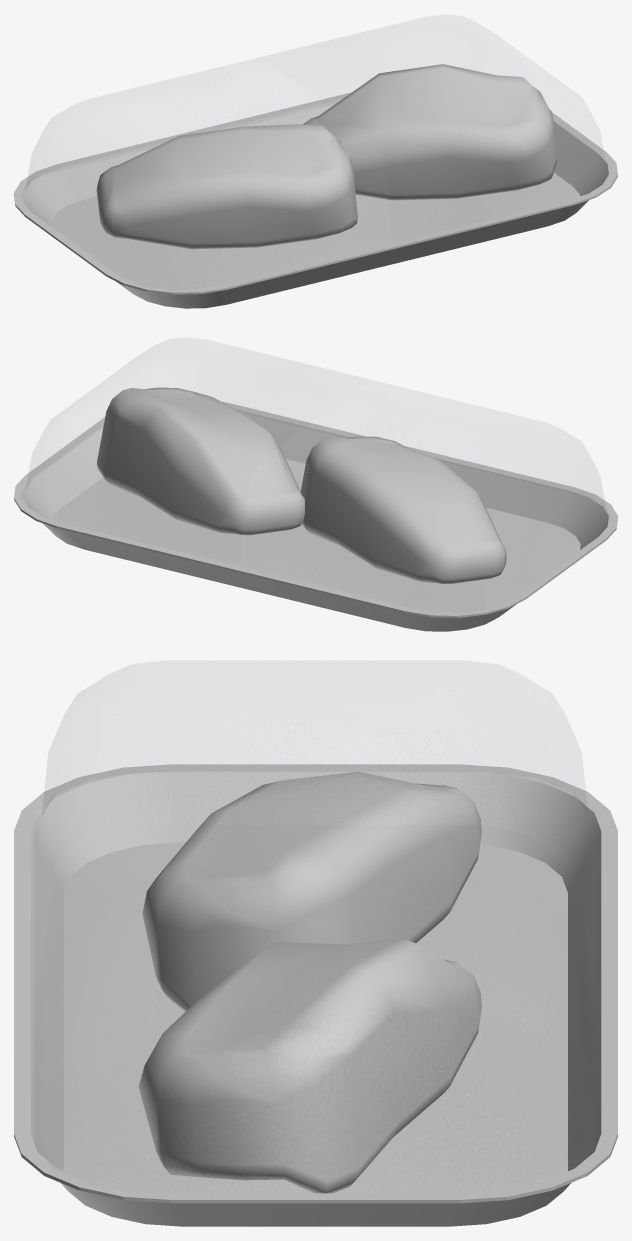
3 renders of one model, top to bottom at view 1: azimuth 30°, elevation 25°; view 2: azimuth 150°, elevation 25°; view 3: azimuth 270°, elevation 25°, orthographic. The views are drawn at different scales.
Visible parts, largest first — view 1: khay, D_1, D_2; view 2: khay, D_2, D_1; view 3: khay, D_2, D_1.
Boxes of the visible parts, x1,y1,x2,y2 form: khay: (14, 92, 617, 308); D_1: (96, 124, 357, 249); D_2: (303, 64, 557, 200); khay: (14, 401, 617, 631); D_2: (97, 387, 304, 535); D_1: (300, 436, 506, 583); khay: (14, 764, 617, 1226); D_2: (138, 938, 481, 1193); D_1: (142, 771, 481, 1011).
Size of the model in its own units: 38.46 by 8.65 by 22.54.
